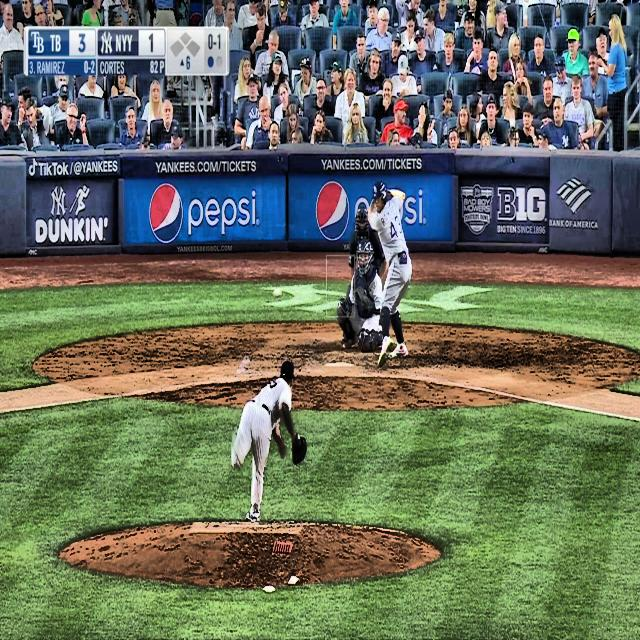baseball: (274, 287, 282, 298)
